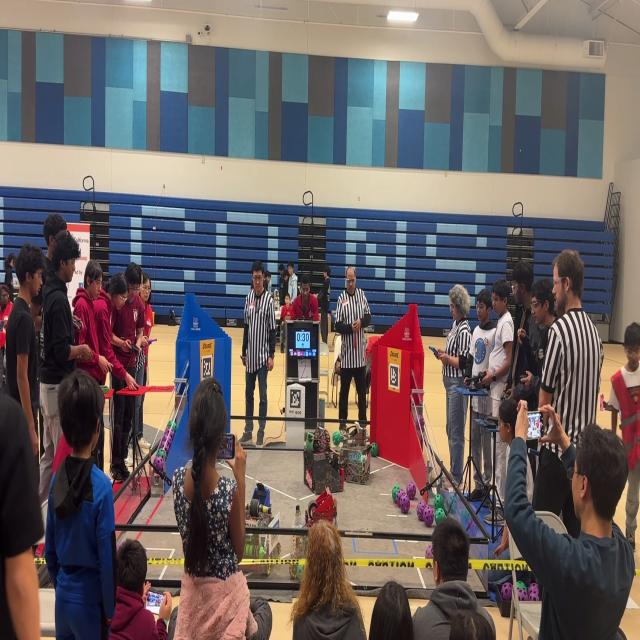artifact_green: (422, 504, 435, 527), (497, 582, 512, 601), (398, 494, 410, 513), (417, 501, 426, 521), (446, 495, 456, 513), (467, 521, 478, 537), (435, 508, 445, 524), (461, 509, 470, 526), (395, 488, 404, 504), (392, 485, 400, 502), (434, 494, 443, 509), (332, 431, 341, 446), (518, 589, 528, 601), (168, 420, 177, 431), (371, 443, 378, 457), (245, 544, 253, 556), (297, 565, 303, 580), (517, 581, 526, 589), (156, 448, 164, 457), (259, 546, 264, 559), (101, 386, 109, 394), (360, 453, 364, 464), (168, 419, 174, 426), (399, 487, 405, 493)
artifact_purple: (423, 505, 434, 526), (398, 494, 410, 513), (501, 582, 512, 601), (406, 481, 417, 500), (467, 521, 478, 537), (528, 583, 539, 599), (417, 501, 426, 520), (391, 485, 400, 502), (435, 509, 445, 524), (434, 494, 444, 509), (159, 433, 168, 449), (155, 457, 164, 472), (396, 489, 405, 504), (528, 590, 540, 601), (518, 589, 528, 601), (418, 415, 425, 431), (167, 431, 174, 447), (425, 544, 432, 559), (371, 443, 378, 457), (528, 583, 539, 591), (398, 488, 405, 494)
